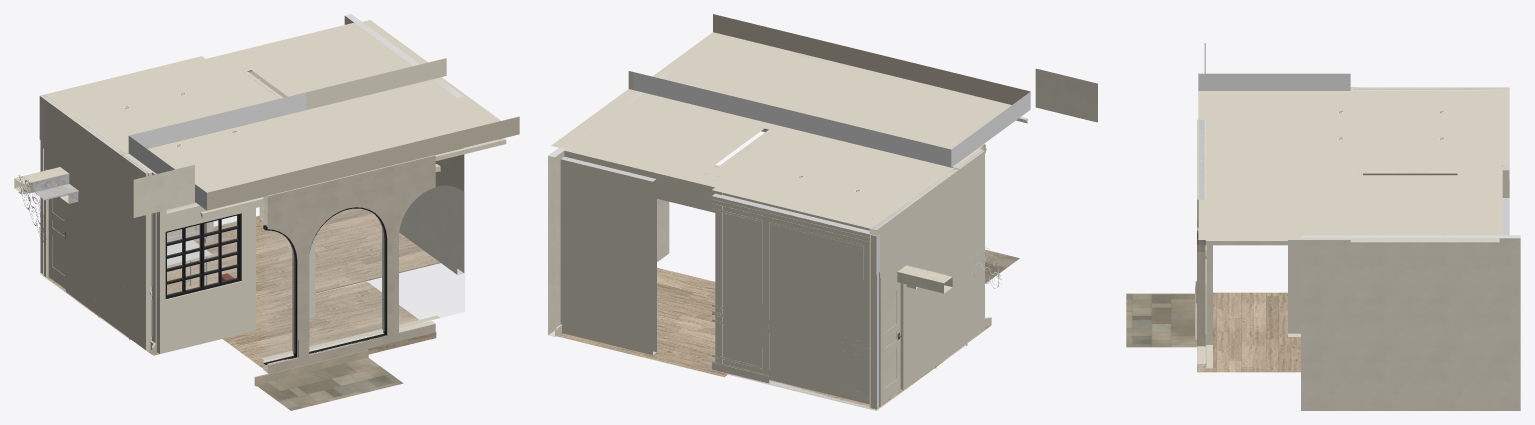
The model's file is office-west-e2e6d99d0c58.glb.
3 views of the same model, side by side, from view 1: azimuth 30°, elevation 25°; view 2: azimuth 150°, elevation 25°; view 3: azimuth 270°, elevation 25° (orthographic). The views are drawn at different scales.
Visible parts, largest first — view 1: office-west-look-dbd60ee5c3733ed6, office-west-6a051330000fbca1, office-west-look-c9e78b9ec1bb39cd, office-west-look-2575515a05775d9e, office-west-2575515a05775d9e, office-west-look-c02a36d0521470a9, office-west-a822d30aa9e2c55a, office-west-look-5cbcc744e6f960f3, office-west-look-3b0077416469e01b, office-west-look-c374268555806af8, office-west-look-6a1144f4e43410bb, office-west-dbd60ee5c3733ed6 (+20 smaller); view 2: office-west-look-dbd60ee5c3733ed6, office-west-fca9ba73dd7496f7, office-west-6a051330000fbca1, office-west-look-19647d6da46c2b80, office-west-2575515a05775d9e, office-west-look-2575515a05775d9e, office-west-look-3b0077416469e01b, office-west-19647d6da46c2b80, office-west-look-6a1144f4e43410bb, office-west-look-34525a54e63b733b, office-west-look-8bc98920de6516ce, office-west-dbd60ee5c3733ed6 (+10 smaller); view 3: office-west-look-6a1144f4e43410bb, office-west-look-dbd60ee5c3733ed6, office-west-2575515a05775d9e, office-west-look-2575515a05775d9e, office-west-look-c374268555806af8, office-west-dbd60ee5c3733ed6, office-west-look-982408871810a50e, office-west-look-c9e78b9ec1bb39cd, office-west-7b11e78295c2e11d, office-west-look-9cfa99552c9f4048, office-west-a822d30aa9e2c55a, office-west-look-e54cb06e326b7f4f (+4 smaller).
Part boxes in pixels (<box>): office-west-look-dbd60ee5c3733ed6: <box>128,77,519,210</box>; office-west-6a051330000fbca1: <box>39,94,156,351</box>; office-west-look-c9e78b9ec1bb39cd: <box>263,155,435,372</box>; office-west-look-2575515a05775d9e: <box>230,20,446,109</box>; office-west-2575515a05775d9e: <box>40,56,282,155</box>; office-west-look-c02a36d0521470a9: <box>309,209,385,349</box>; office-west-a822d30aa9e2c55a: <box>156,139,307,353</box>; office-west-look-5cbcc744e6f960f3: <box>399,186,464,327</box>; office-west-look-3b0077416469e01b: <box>213,208,440,298</box>; office-west-look-c374268555806af8: <box>223,281,436,370</box>; office-west-look-6a1144f4e43410bb: <box>344,14,464,274</box>; office-west-dbd60ee5c3733ed6: <box>128,116,314,173</box>; office-west-look-dbd60ee5c3733ed6: <box>633,14,1030,166</box>; office-west-fca9ba73dd7496f7: <box>722,193,840,396</box>; office-west-6a051330000fbca1: <box>869,146,984,408</box>; office-west-look-19647d6da46c2b80: <box>560,156,656,355</box>; office-west-2575515a05775d9e: <box>712,129,958,228</box>; office-west-look-2575515a05775d9e: <box>551,71,770,180</box>; office-west-look-3b0077416469e01b: <box>557,267,727,377</box>; office-west-19647d6da46c2b80: <box>712,193,869,407</box>; office-west-look-6a1144f4e43410bb: <box>548,72,669,336</box>; office-west-look-34525a54e63b733b: <box>1035,68,1097,122</box>; office-west-look-8bc98920de6516ce: <box>564,149,726,208</box>; office-west-dbd60ee5c3733ed6: <box>794,105,983,167</box>; office-west-look-6a1144f4e43410bb: <box>1301,235,1520,410</box>; office-west-look-dbd60ee5c3733ed6: <box>1198,73,1350,239</box>; office-west-2575515a05775d9e: <box>1350,87,1509,164</box>; office-west-look-2575515a05775d9e: <box>1350,175,1499,242</box>; office-west-look-c374268555806af8: <box>1197,292,1300,372</box>; office-west-dbd60ee5c3733ed6: <box>1288,90,1350,164</box>; office-west-look-982408871810a50e: <box>1126,293,1196,347</box>; office-west-look-c9e78b9ec1bb39cd: <box>1197,119,1205,371</box>; office-west-7b11e78295c2e11d: <box>1288,161,1502,336</box>; office-west-look-9cfa99552c9f4048: <box>1295,164,1479,240</box>; office-west-a822d30aa9e2c55a: <box>1288,91,1295,333</box>; office-west-look-e54cb06e326b7f4f: <box>1206,245,1212,368</box>.
Size of the model in its own units: 6.87 by 3.92 by 6.21.
26 materials, 9 textured.
